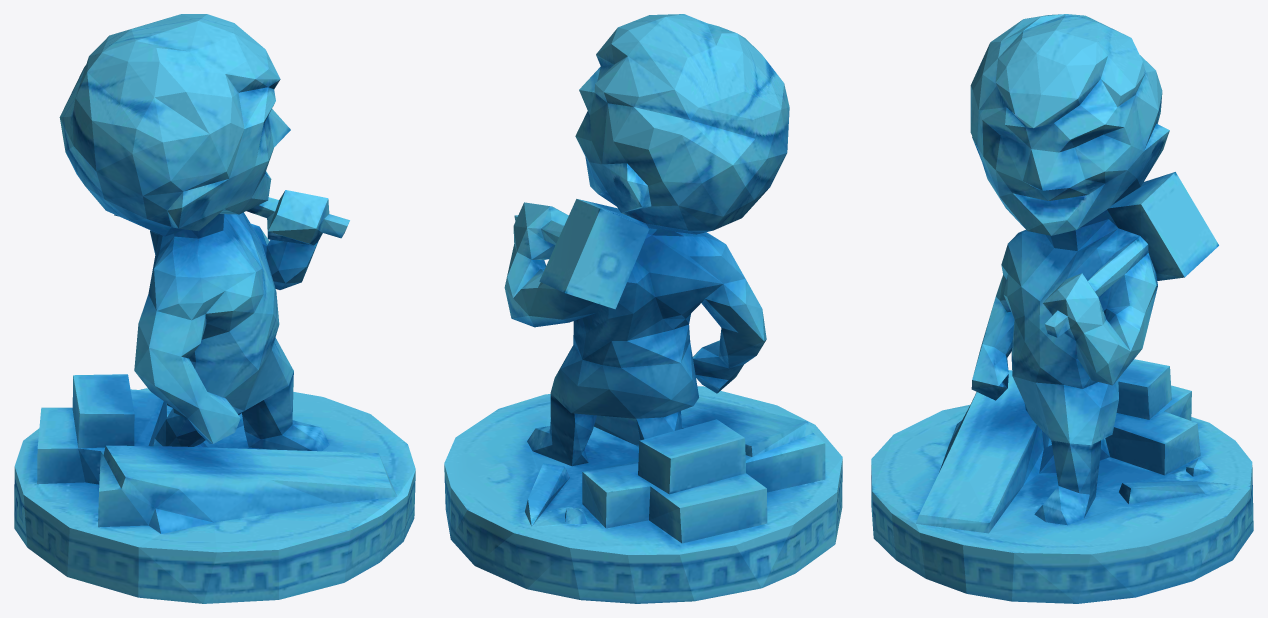
Rendered from worker_blue_0.obj.
3 renders of one model, left to right at view 1: azimuth 30°, elevation 25°; view 2: azimuth 150°, elevation 25°; view 3: azimuth 270°, elevation 25°, orthographic. The views are drawn at different scales.
Visible parts, largest first — view 1: MaleBuilder; view 2: MaleBuilder; view 3: MaleBuilder.
Part boxes in pixels (<box>): MaleBuilder: <box>14,14,415,603</box>; MaleBuilder: <box>444,14,842,603</box>; MaleBuilder: <box>871,14,1253,603</box>.
Size of the model in its own units: 1.16 by 1.63 by 1.17.
1 material, 1 textured.
